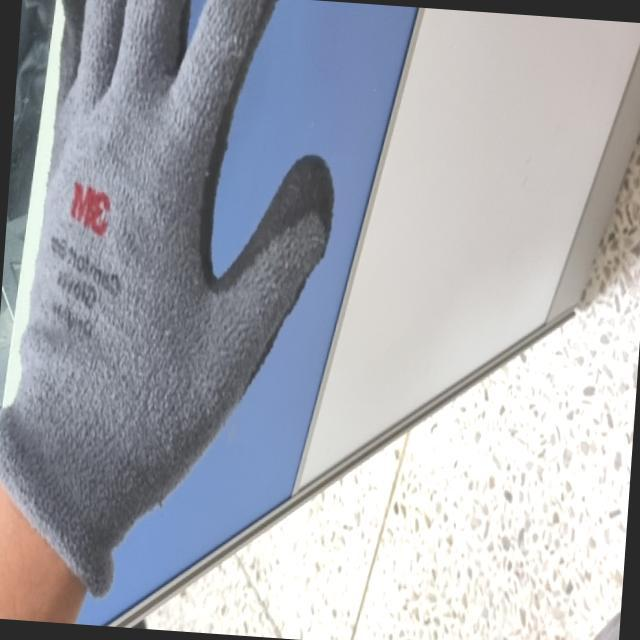Gloves: (0, 0, 335, 584)
